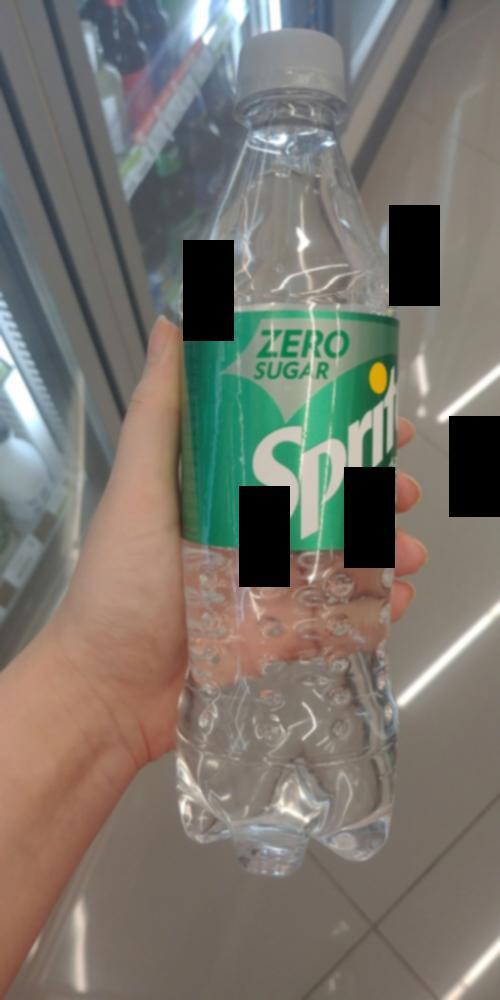sprite_zero: (156, 23, 412, 879)
